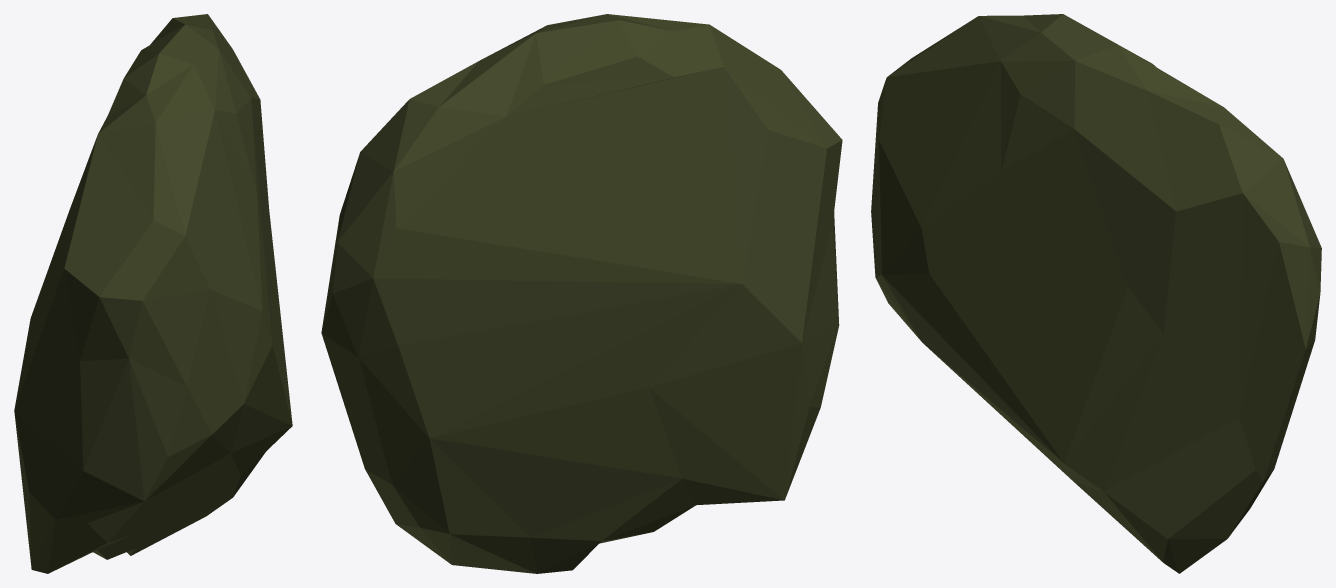
Rendered from SM_small_rock_43.fbx.
3 views of the same model, side by side, from view 1: azimuth 30°, elevation 25°; view 2: azimuth 150°, elevation 25°; view 3: azimuth 270°, elevation 25° (orthographic). The views are drawn at different scales.
Visible parts, largest first — view 1: small_rock_43; view 2: small_rock_43; view 3: small_rock_43.
Part boxes in pixels (left/top/right/bottom): small_rock_43: left=14, top=14, right=292, bottom=573; small_rock_43: left=321, top=14, right=842, bottom=573; small_rock_43: left=871, top=14, right=1321, bottom=573.
Size of the model in its own units: 6.18 by 9.29 by 7.45.
